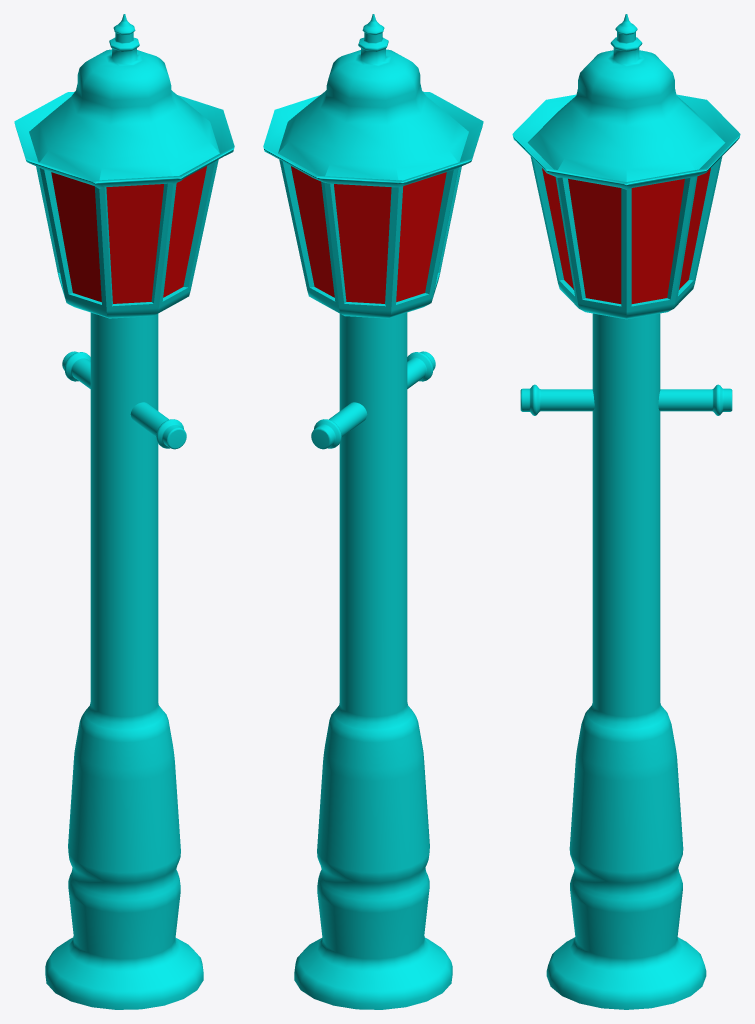
File: U_LampPost.fbx
3 renders of one model, left to right at view 1: azimuth 30°, elevation 25°; view 2: azimuth 150°, elevation 25°; view 3: azimuth 270°, elevation 25°, orthographic.
Visible parts, largest first — view 1: lightpost_1; view 2: lightpost_1; view 3: lightpost_1.
Boxes of the visible parts, <box> form: lightpost_1: <box>14,14,234,1009</box>; lightpost_1: <box>263,14,483,1009</box>; lightpost_1: <box>512,14,740,1009</box>.
Bounding box in the file's own units: 6.48 × 30.15 × 6.48.
